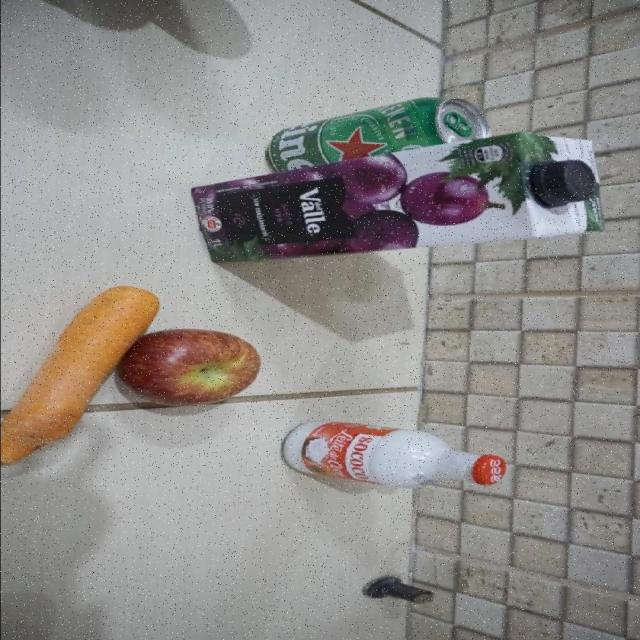Apple: (121, 328, 261, 408)
BeerCan: (267, 96, 492, 173)
Carrot: (0, 284, 159, 467)
CoconutMilk: (280, 418, 507, 488)
